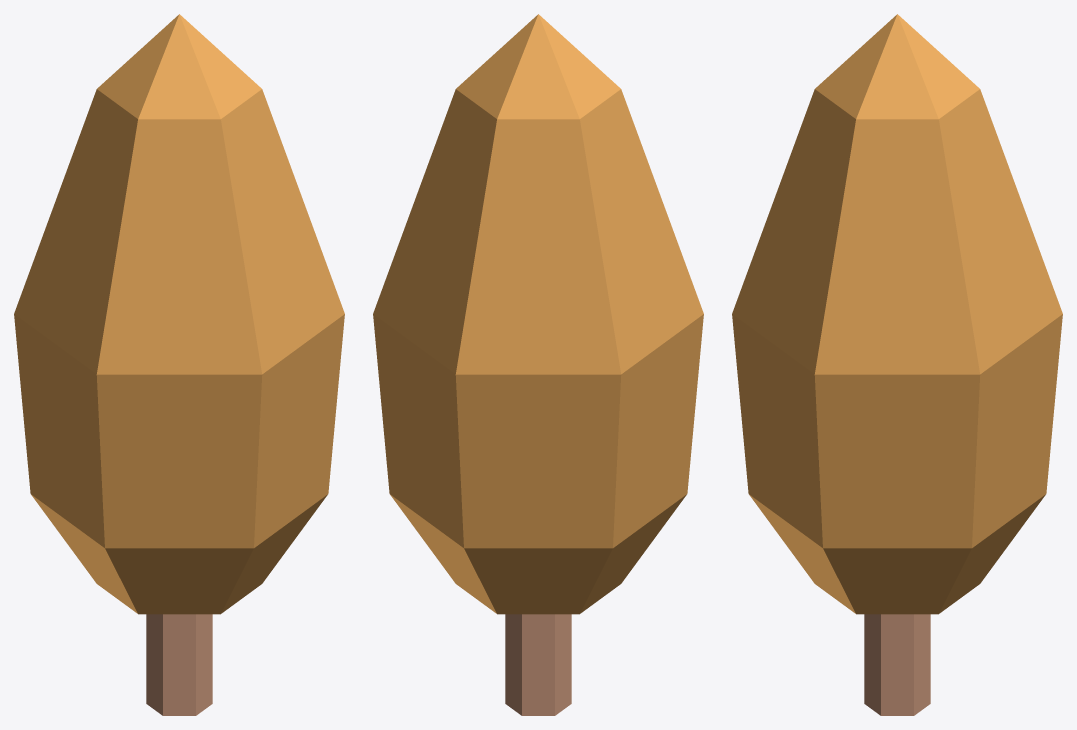
The model's file is Creamy_Cone_Tree_3.fbx.
3 views of the same model, side by side, from view 1: azimuth 30°, elevation 25°; view 2: azimuth 150°, elevation 25°; view 3: azimuth 270°, elevation 25° (orthographic).
Parts seen in each view (by area): view 1: mergedBlocks; view 2: mergedBlocks; view 3: mergedBlocks.
Boxes of the visible parts, x1,y1,x2,y2 form: mergedBlocks: [14, 14, 344, 715]; mergedBlocks: [373, 14, 703, 715]; mergedBlocks: [732, 14, 1062, 715].
Bounding box in the file's own units: 8.66 × 23 × 10.
